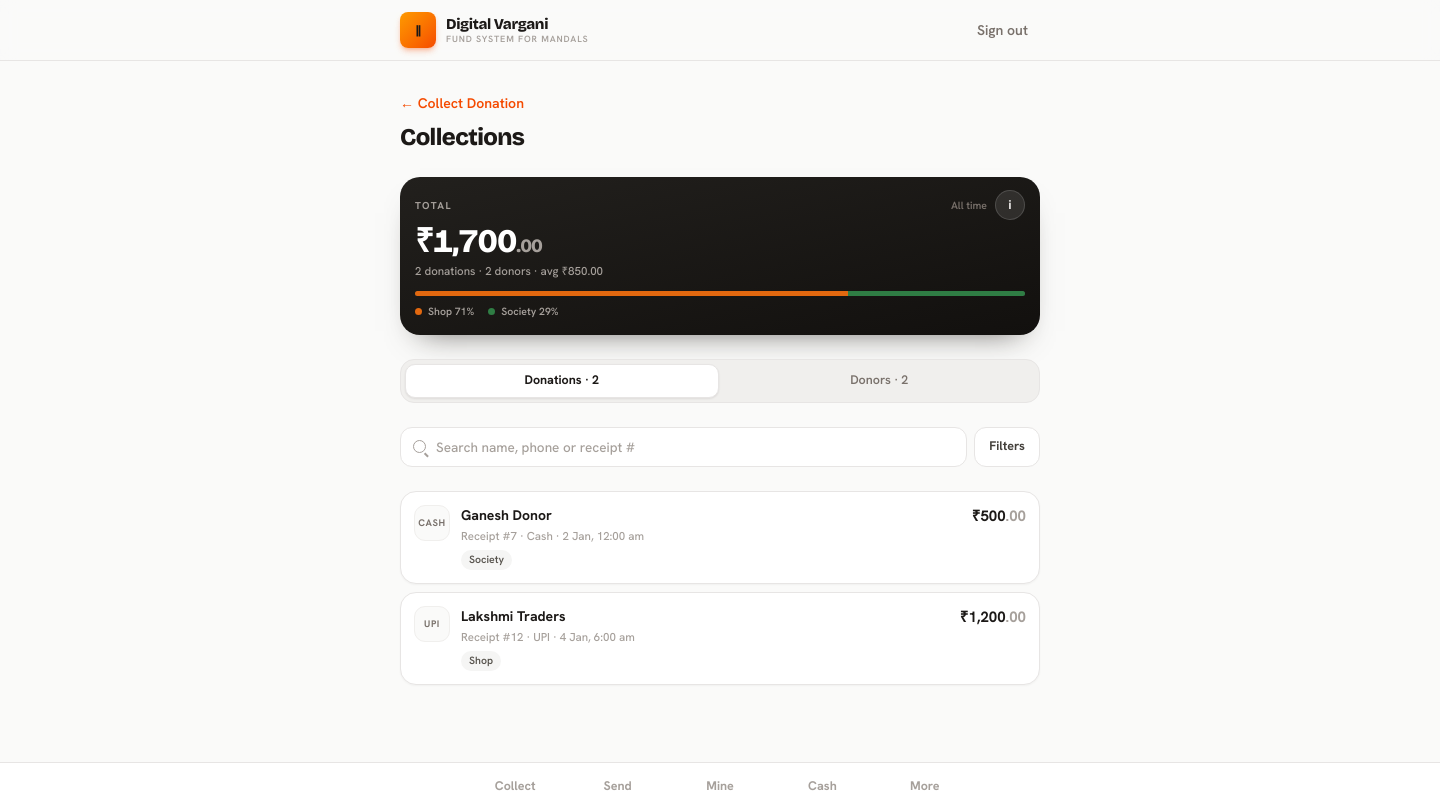
Test: CollectionsContent — the Collections & donors tab › donors view › narrows both views at once, so the total always matches the view
This screenshot has width=1440, height=810.
Expected: the text "Ganesh Donor" is shown, left=461, top=506, right=552, bottom=524
Click the button "Donors · 2" at (879, 381), box left=724, top=364, right=1035, bottom=398
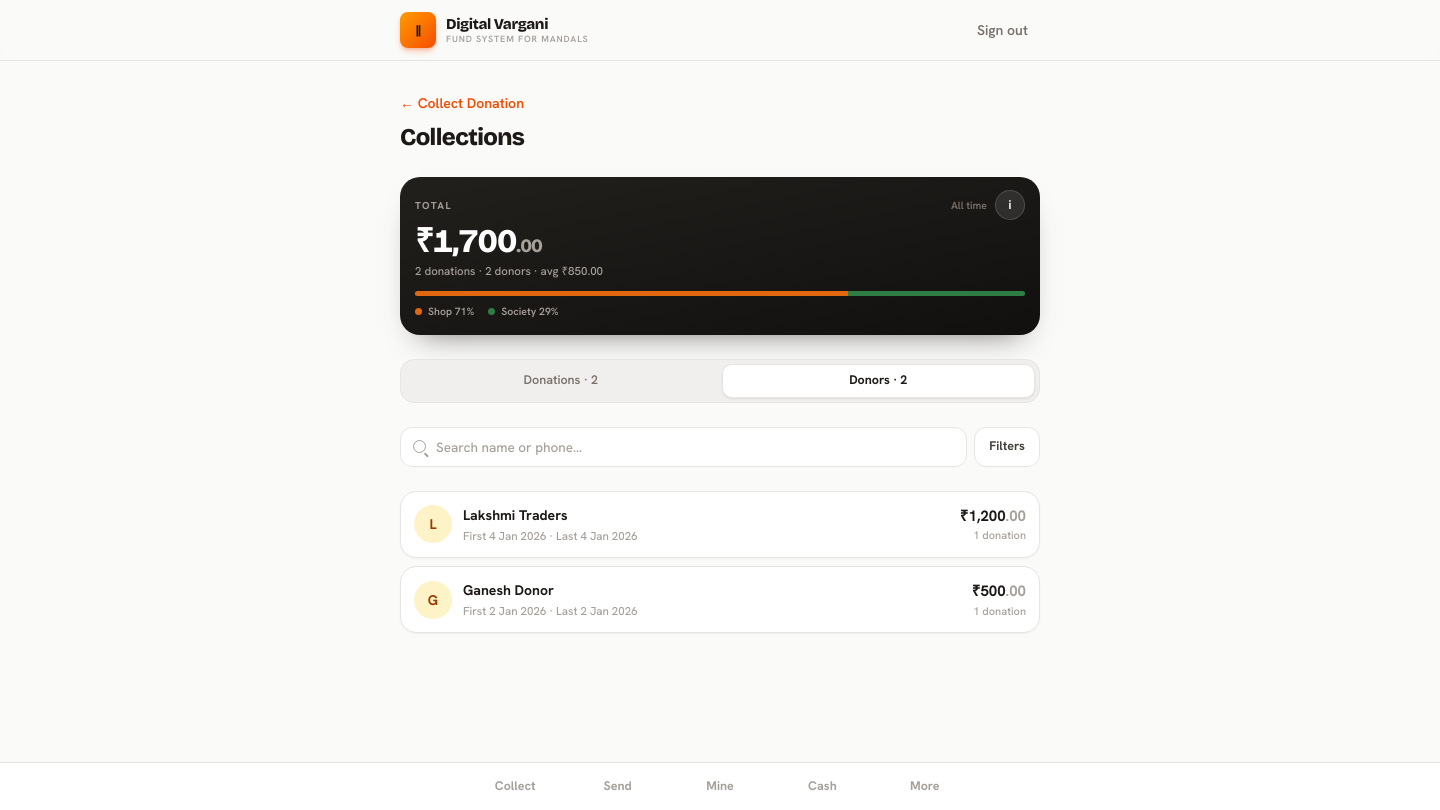
Type "lakshmi" into the search field at (695, 447), box left=436, top=436, right=954, bottom=457
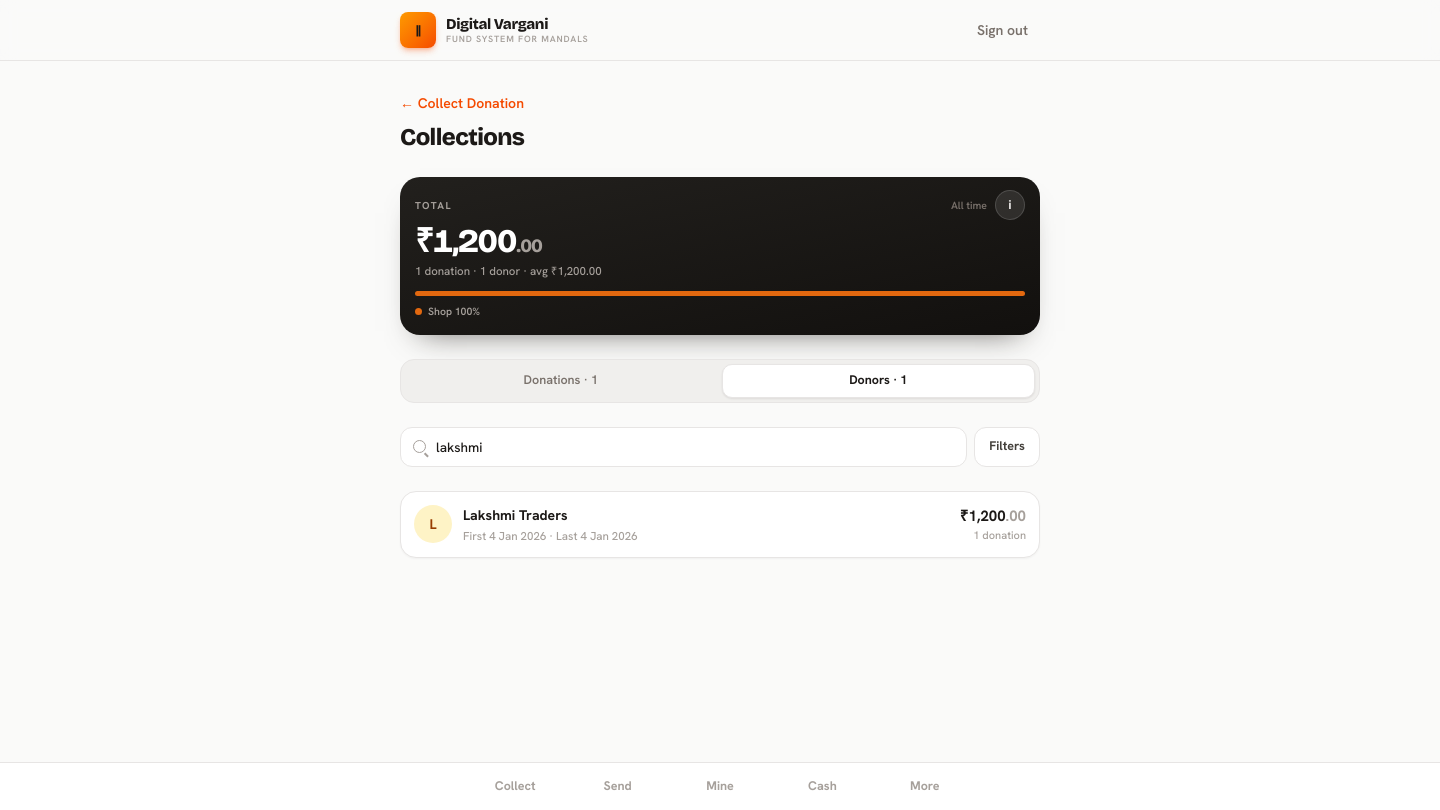
Expected: the number of buttons "First " is 1, left=400, top=491, right=1040, bottom=558
